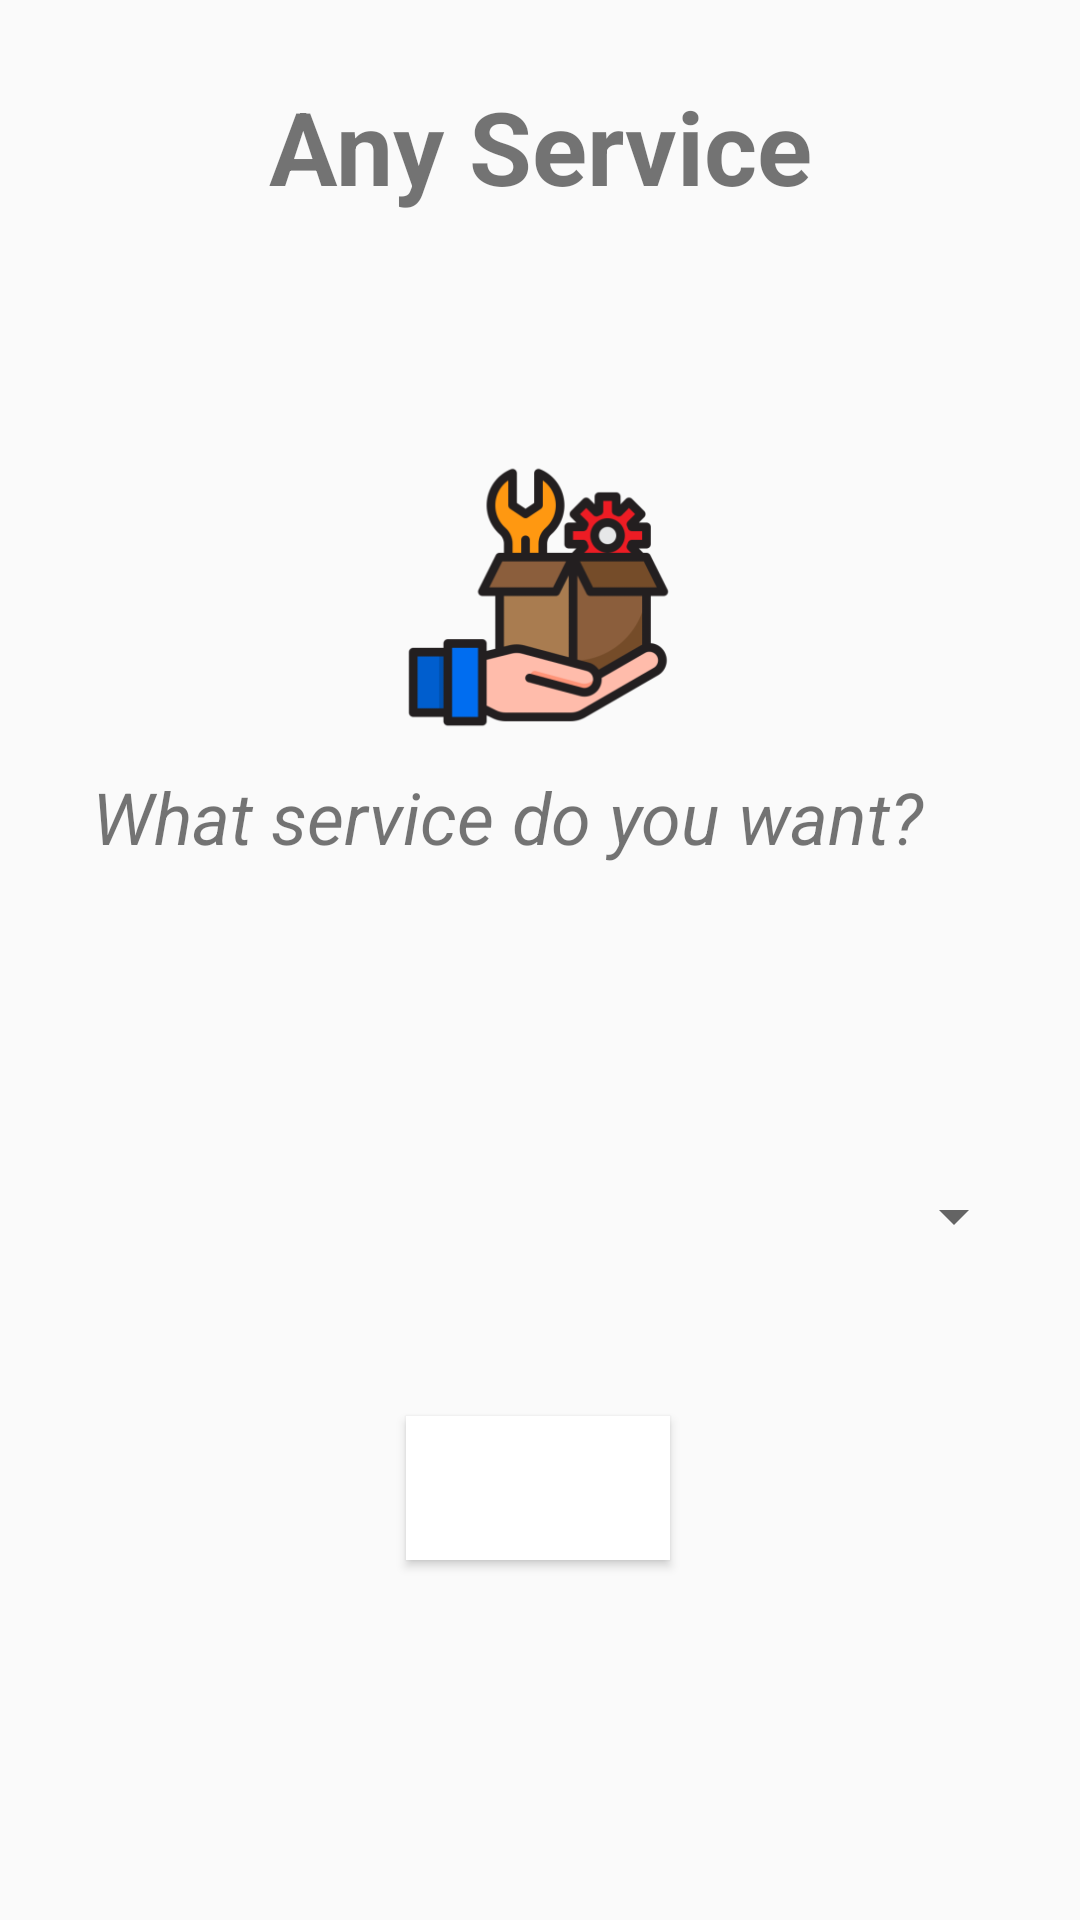

Screen size 1080 × 1920. Icon name, then its box in pixels as (x1, y1, x2, y2):
service pro: (408, 468, 669, 726)
